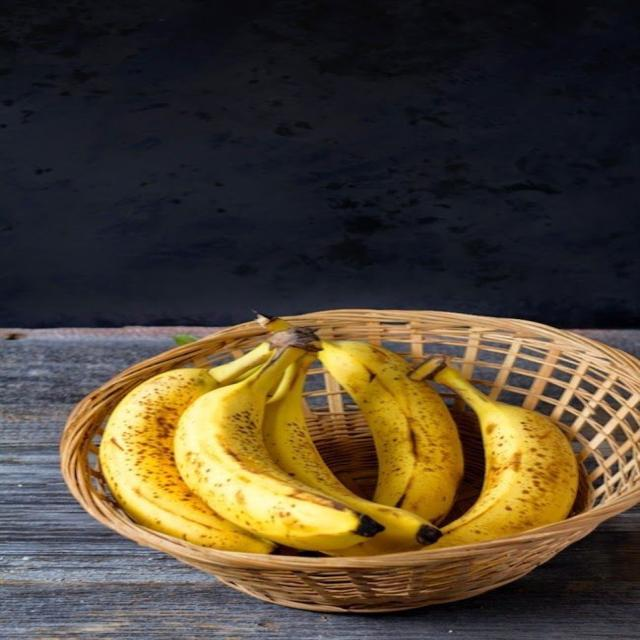unpeal banana: (175, 342, 383, 550), (99, 342, 274, 553), (263, 355, 440, 555), (99, 369, 274, 553), (412, 356, 578, 548), (319, 341, 463, 523), (319, 341, 462, 523)
